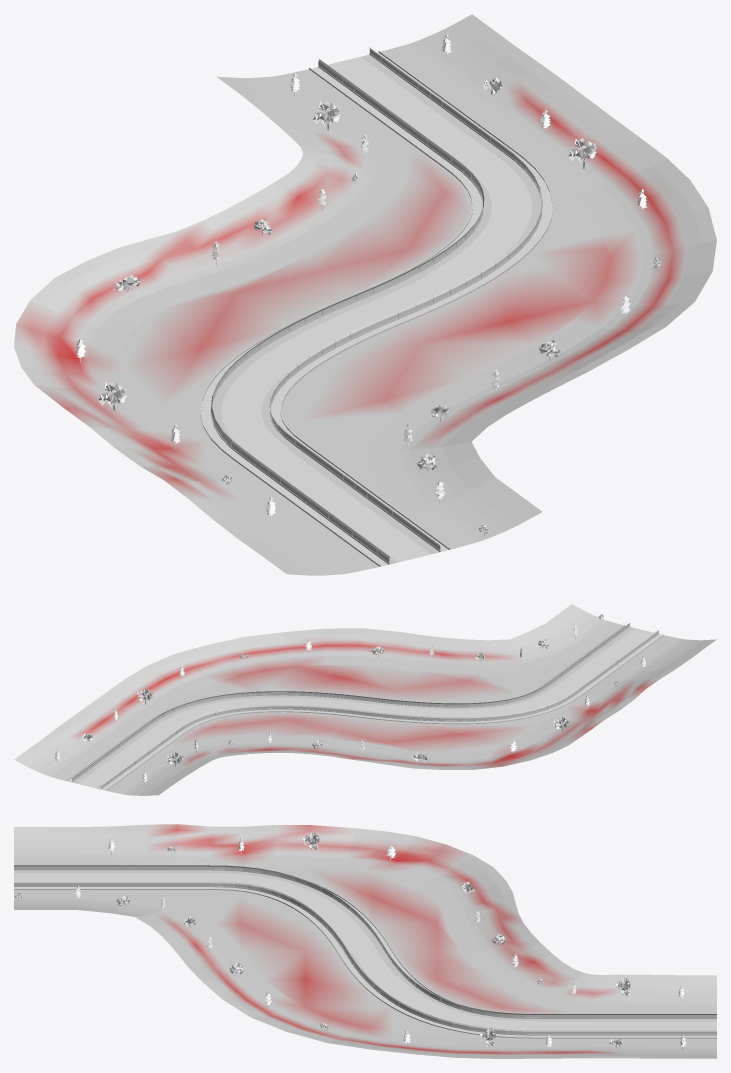
3 renders of one model, top to bottom at view 1: azimuth 30°, elevation 25°; view 2: azimuth 150°, elevation 25°; view 3: azimuth 270°, elevation 25°, orthographic. The views are drawn at different scales.
Parts seen in each view (by area): view 1: Grass, Road, Track, WireFence, Trees; view 2: Grass, Road, Track, WireFence, Trees; view 3: Grass, Road, WireFence, Track, Trees.
Boxes of the visible parts, x1,y1,x2,y2 form: Grass: [14, 14, 716, 575]; Road: [222, 57, 531, 562]; Track: [200, 47, 553, 566]; WireFence: [211, 47, 542, 562]; Trees: [75, 34, 661, 536]; Grass: [14, 604, 716, 795]; Road: [78, 628, 652, 788]; Track: [66, 624, 664, 790]; WireFence: [72, 623, 658, 788]; Trees: [55, 614, 645, 784]; Grass: [14, 824, 716, 1058]; Road: [14, 873, 716, 1029]; WireFence: [14, 865, 716, 1034]; Track: [14, 865, 716, 1038]; Trees: [14, 831, 686, 1050].
Size of what is drawn, in the model's own units: 39000 by 1702 by 50000.
